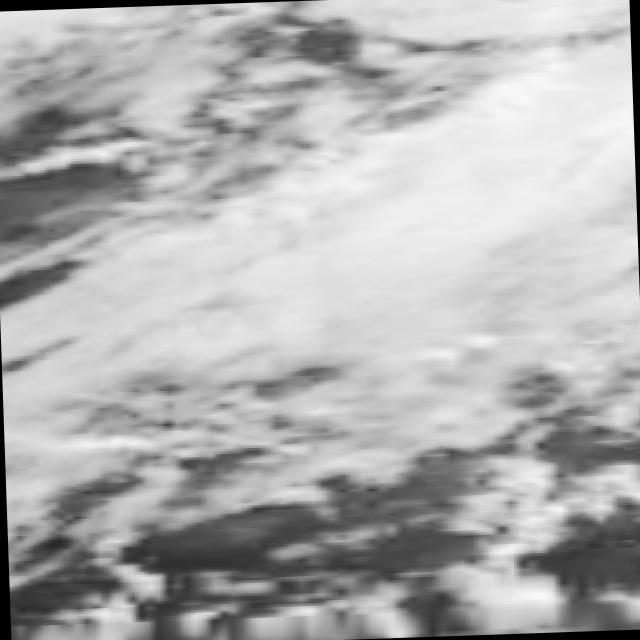CB: (390, 147, 636, 341), (451, 0, 636, 207), (268, 168, 409, 354), (114, 232, 272, 378)
